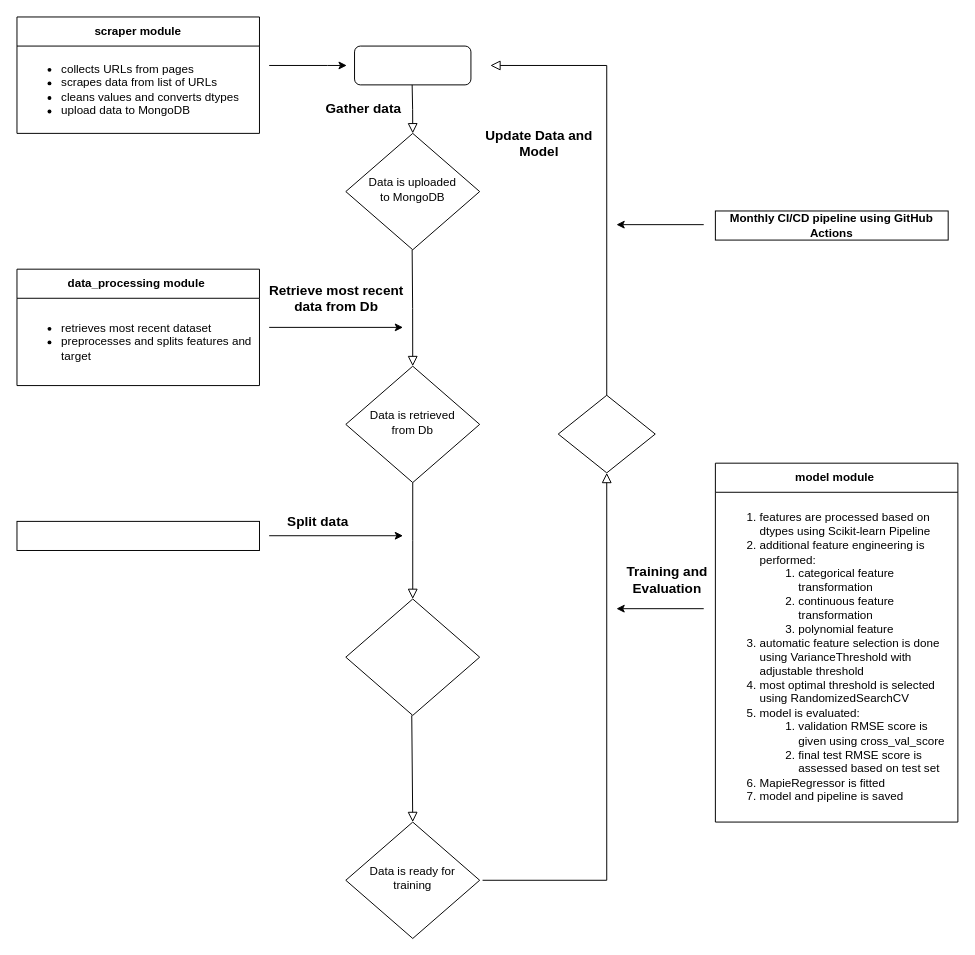
Some shapes in this 975 by 955 pixel diagram are drawn without their labels. Here are the shapes that lost their labels. From the top down, the centre of each, then its label:
At (412,65): "Data is Scraped Using requests-html".
At (606,433): "Model saved".
At (137,535): "train/test split".
At (412,656): "Labeling errors addressed".
